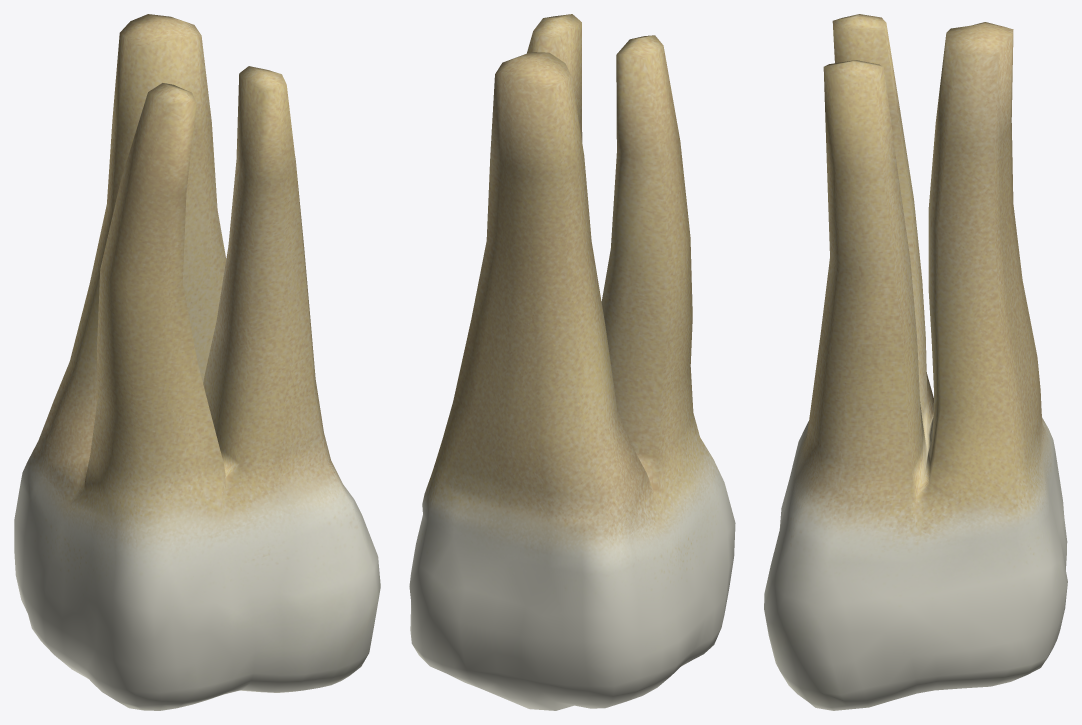
The model's file is Human Teeth Upper Second Molar.gltf.
3 views of the same model, side by side, from view 1: azimuth 30°, elevation 25°; view 2: azimuth 150°, elevation 25°; view 3: azimuth 270°, elevation 25° (orthographic).
Parts seen in each view (by area): view 1: Human_Teeth_Upper_Second_Molar_Geo; view 2: Human_Teeth_Upper_Second_Molar_Geo; view 3: Human_Teeth_Upper_Second_Molar_Geo.
Boxes of the visible parts, bbox=[...] form: Human_Teeth_Upper_Second_Molar_Geo: bbox=[14, 14, 380, 710]; Human_Teeth_Upper_Second_Molar_Geo: bbox=[409, 14, 735, 710]; Human_Teeth_Upper_Second_Molar_Geo: bbox=[764, 14, 1067, 710].
Size of the model in its own units: 2.14 by 4.83 by 2.07.
Materials: 1 (1 with a texture image).
